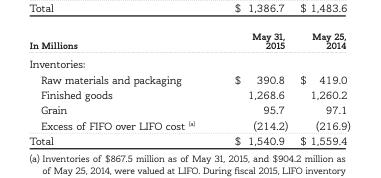table: (28, 29, 349, 146)
table column: (28, 29, 213, 146), (213, 29, 293, 146), (293, 29, 349, 146)
table column header: (28, 29, 349, 53)
table projected row header: (28, 53, 349, 71)
table row: (28, 29, 349, 53), (28, 53, 349, 71), (28, 101, 349, 117), (28, 71, 349, 86), (28, 86, 349, 101), (28, 117, 349, 132), (28, 132, 349, 146)
